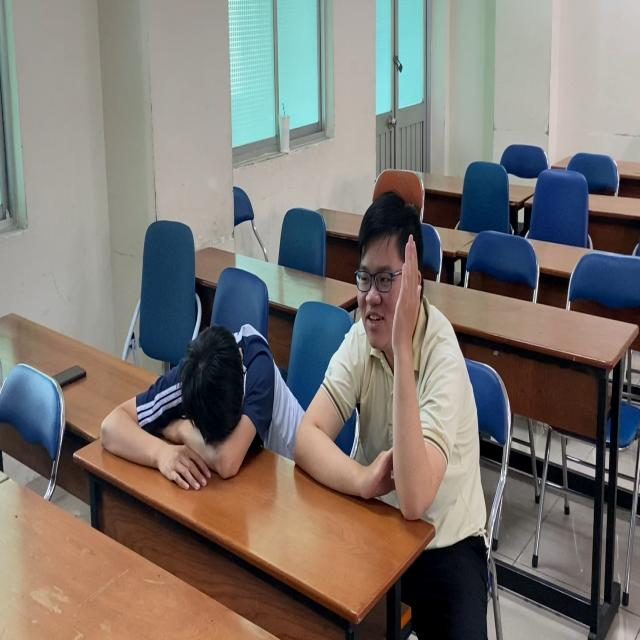raise_hand: (335, 184, 468, 525)
sleep: (96, 317, 304, 504)
